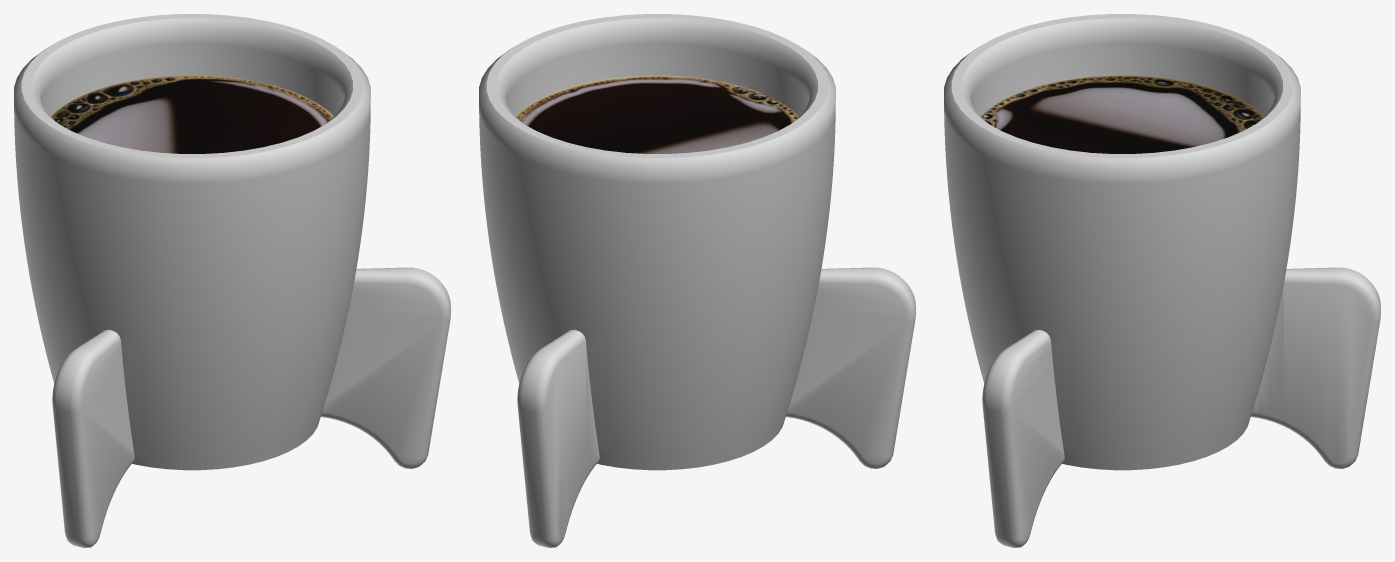
3 views of the same model, side by side, from view 1: azimuth 30°, elevation 25°; view 2: azimuth 150°, elevation 25°; view 3: azimuth 270°, elevation 25° (orthographic).
Visible parts, largest first — view 1: mesh2_mesh2-geometry, mesh1_mesh1-geometry; view 2: mesh2_mesh2-geometry, mesh1_mesh1-geometry; view 3: mesh2_mesh2-geometry, mesh1_mesh1-geometry.
Part boxes in pixels (x1=…): mesh2_mesh2-geometry: x1=14, y1=14, x2=450, y2=547; mesh1_mesh1-geometry: x1=51, y1=75, x2=333, y2=153; mesh2_mesh2-geometry: x1=479, y1=14, x2=915, y2=547; mesh1_mesh1-geometry: x1=516, y1=75, x2=798, y2=153; mesh2_mesh2-geometry: x1=944, y1=14, x2=1380, y2=547; mesh1_mesh1-geometry: x1=981, y1=75, x2=1263, y2=153.
Bounding box in the file's own units: 0.6029 × 0.5522 × 0.5758.
2 materials, 1 textured.
